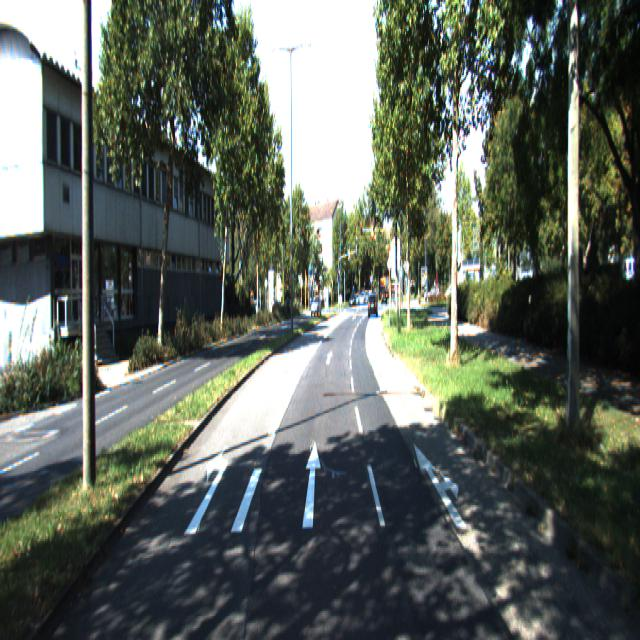Car: (369, 292, 378, 317)
